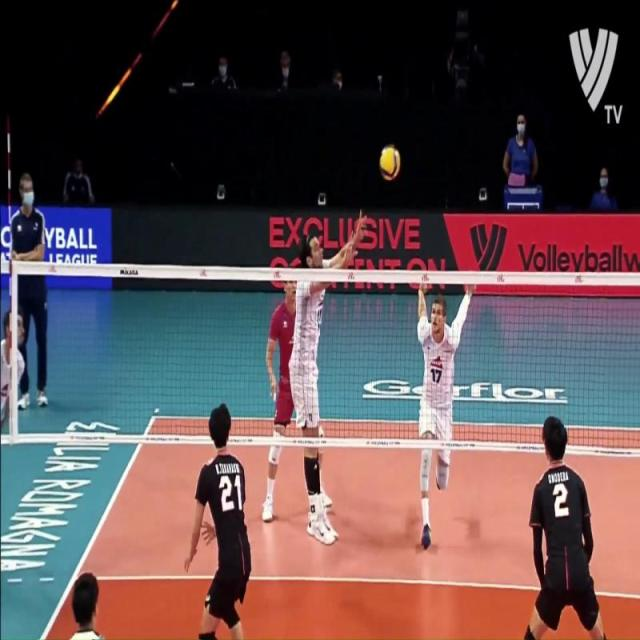volleyball: (378, 142, 401, 184)
